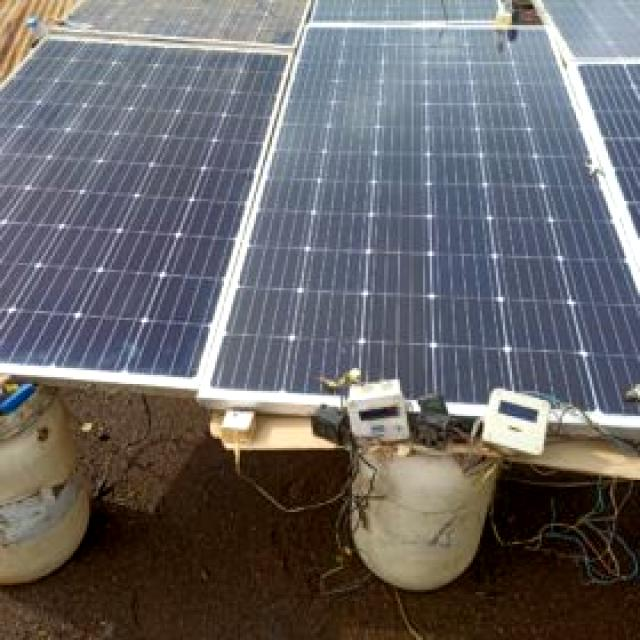dust: (24, 72, 230, 278), (267, 280, 634, 394), (297, 160, 609, 258)
